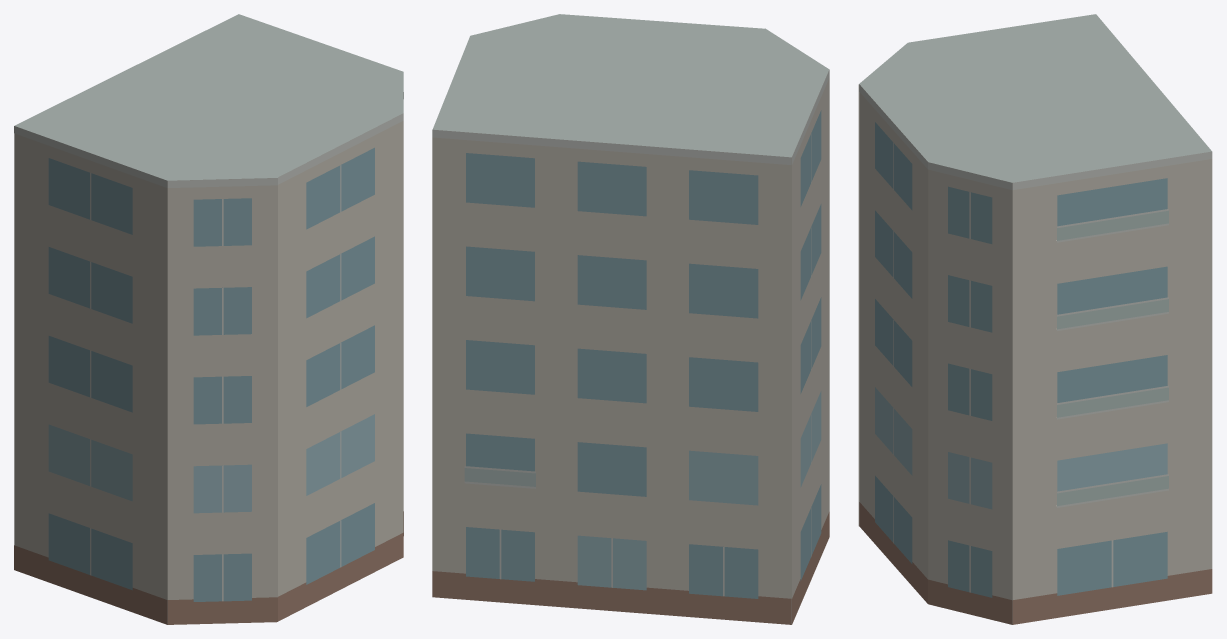
The model's file is survey-upis-32610707.glb.
3 renders of one model, left to right at view 1: azimuth 30°, elevation 25°; view 2: azimuth 150°, elevation 25°; view 3: azimuth 270°, elevation 25°, orthographic. The views are drawn at different scales.
Visible parts, largest first — view 1: survey-upis-32610707.tmp; view 2: survey-upis-32610707.tmp; view 3: survey-upis-32610707.tmp.
Part boxes in pixels (x1,y1,x2,y2): survey-upis-32610707.tmp: [14, 14, 403, 624]; survey-upis-32610707.tmp: [432, 14, 829, 624]; survey-upis-32610707.tmp: [858, 14, 1212, 624].
Size of the model in its own units: 11.92 by 14.54 by 10.55.
